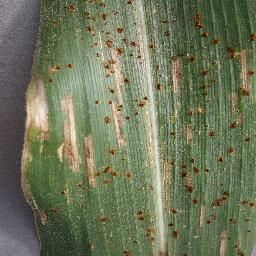Gray_Leaf_Spot: (170, 33, 256, 256), (131, 0, 170, 256), (100, 0, 131, 183), (45, 0, 101, 57), (13, 147, 48, 232), (20, 67, 52, 147), (57, 93, 81, 173), (80, 128, 99, 188), (171, 0, 205, 33), (51, 61, 78, 73), (95, 212, 110, 227), (117, 246, 131, 256), (83, 242, 95, 253), (61, 188, 71, 201), (50, 204, 59, 217), (92, 95, 99, 106)
